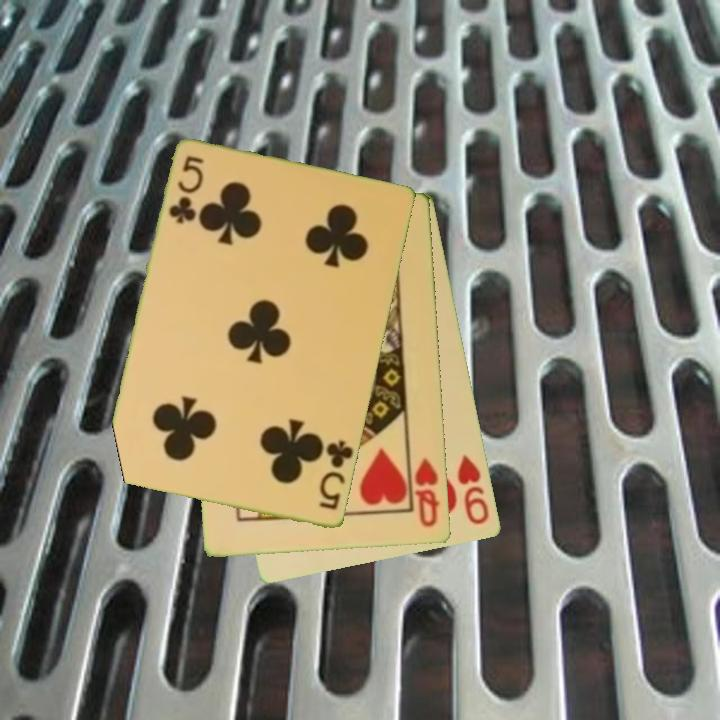5c: (165, 152, 207, 228), (316, 437, 356, 514)
9h: (454, 451, 493, 528)
Qh: (412, 455, 443, 530)
